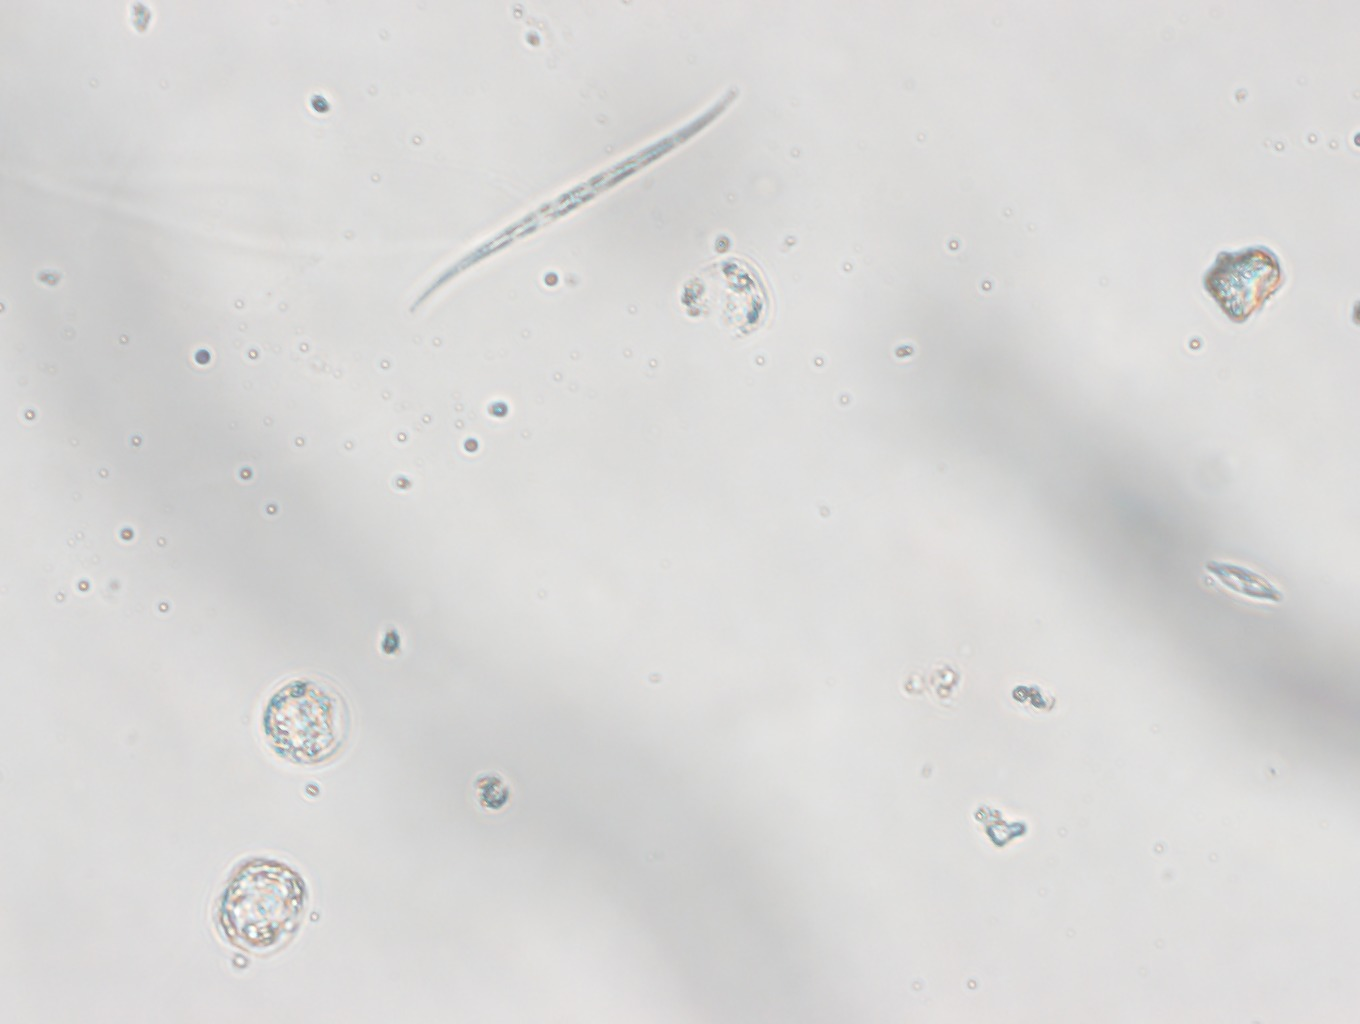navicula: (1194, 549, 1291, 610)
pleurosigma pelagicum: (387, 60, 738, 317)
